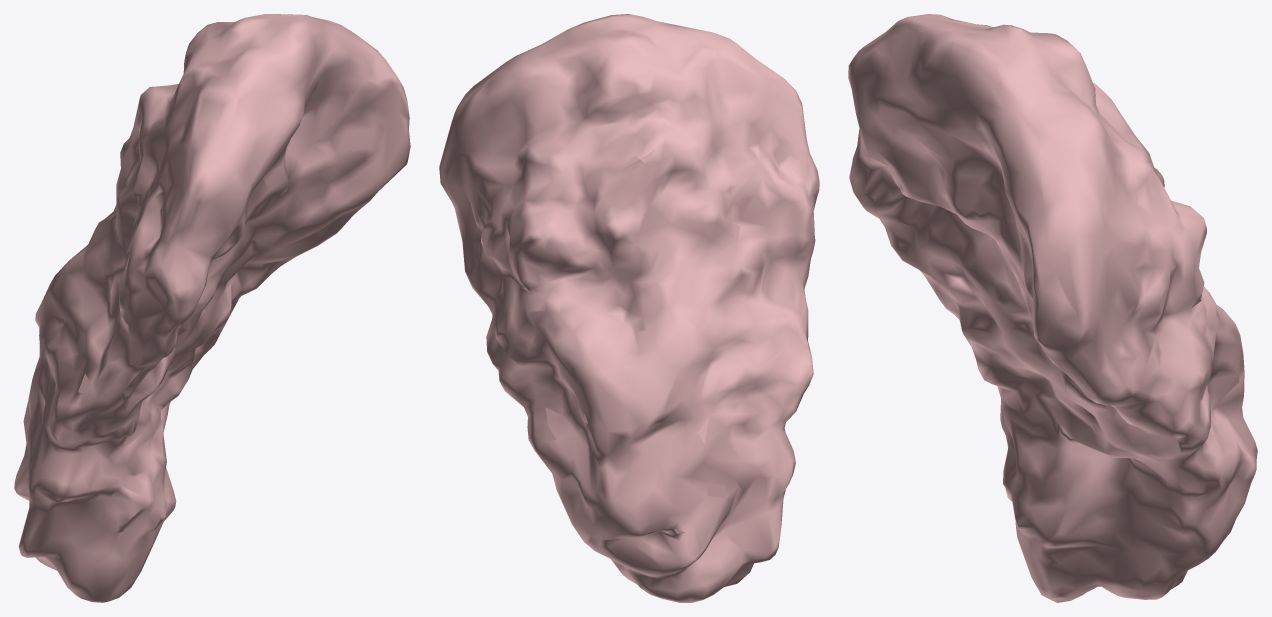
File: 3d-vh-m-palatine-tonsil-r-40.glb
3 views of the same model, side by side, from view 1: azimuth 30°, elevation 25°; view 2: azimuth 150°, elevation 25°; view 3: azimuth 270°, elevation 25° (orthographic). The views are drawn at different scales.
Visible parts, largest first — view 1: VH_M_palatine_tonsil_R; view 2: VH_M_palatine_tonsil_R; view 3: VH_M_palatine_tonsil_R.
Boxes of the visible parts, left/top/right/bottom form: VH_M_palatine_tonsil_R: left=14, top=14, right=410, bottom=602; VH_M_palatine_tonsil_R: left=439, top=14, right=819, bottom=602; VH_M_palatine_tonsil_R: left=848, top=14, right=1257, bottom=602.
Size of the model in its own units: 0.0168 by 0.0239 by 0.0139.
